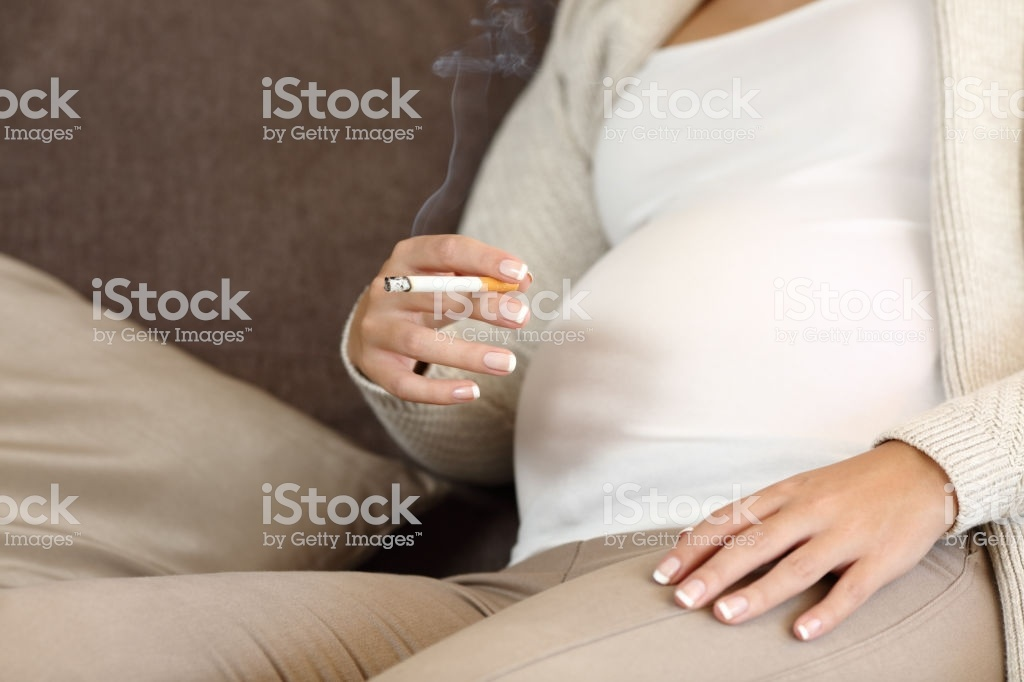sigaretta: (387, 271, 516, 302)
